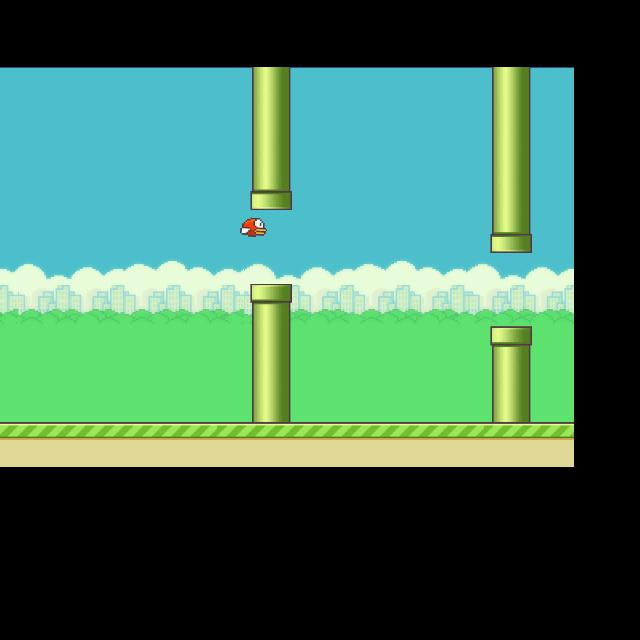bird: (240, 218, 267, 237)
pipedown: (249, 283, 292, 423), (490, 326, 531, 424)
pipeup: (490, 69, 531, 253), (250, 69, 291, 209)
